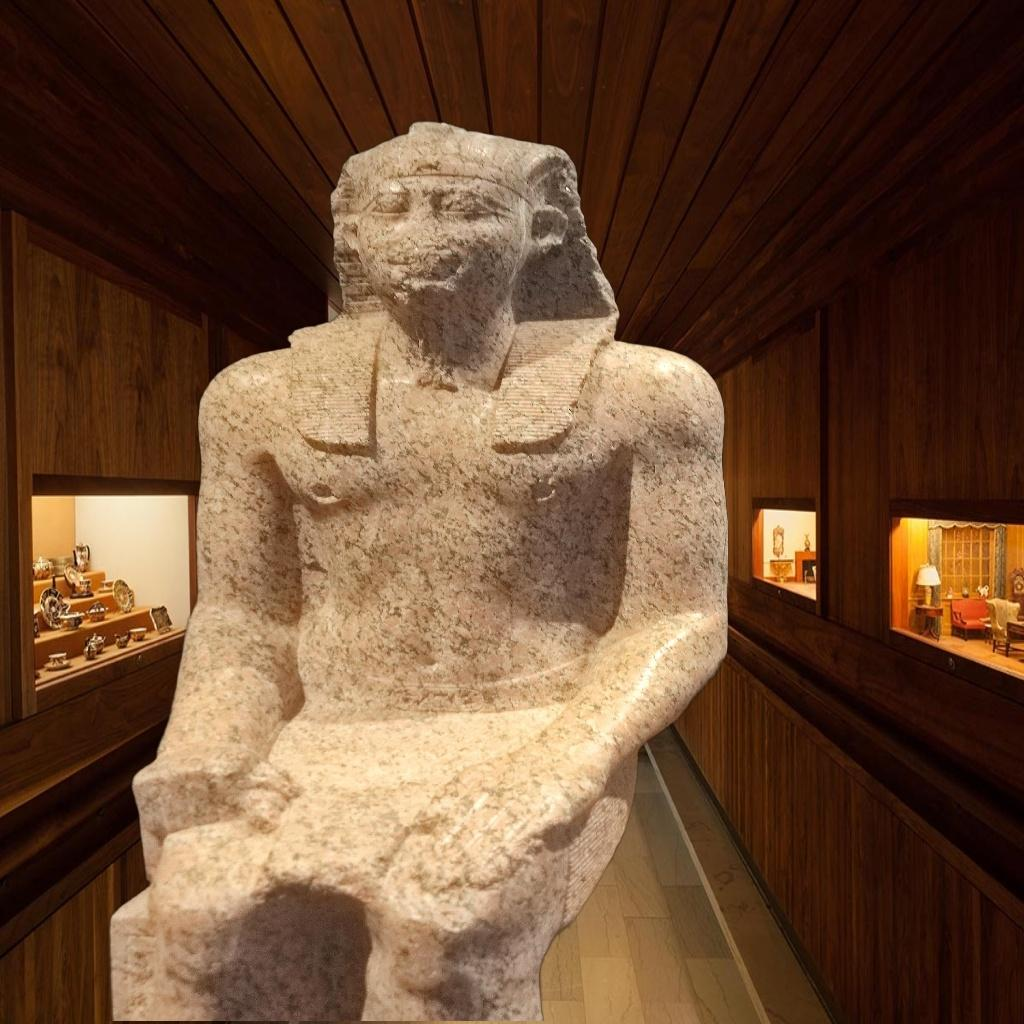Statue of Amenmhat I: (106, 117, 734, 1021)
